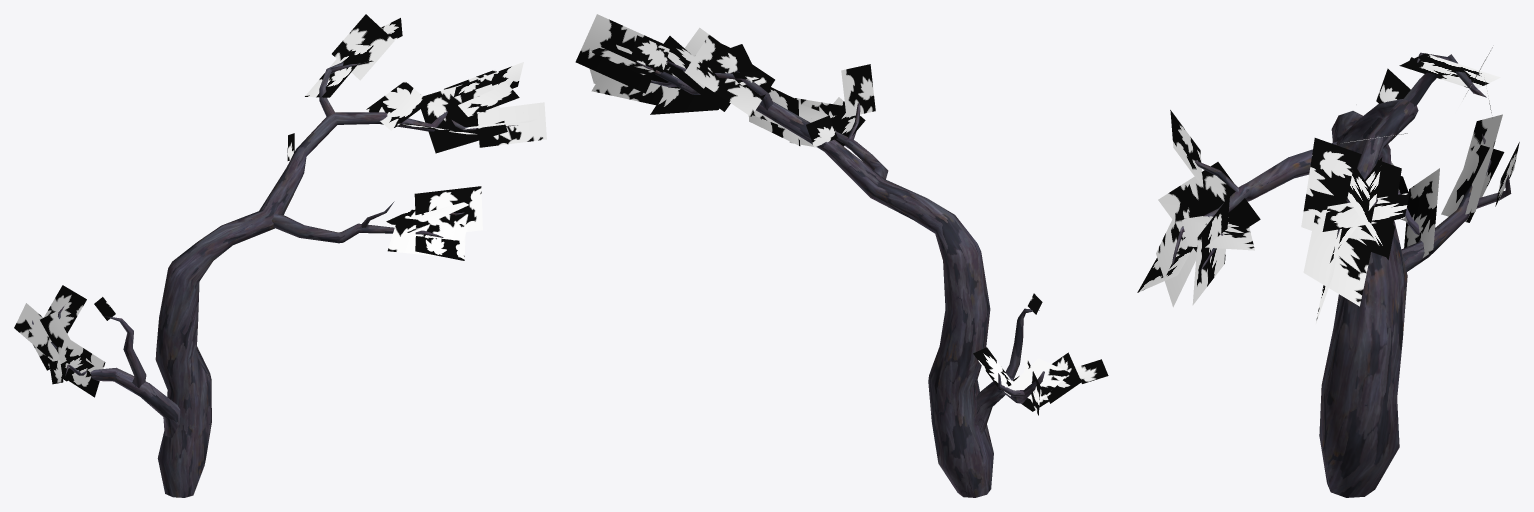
Rendered from P_TreeWindswept01.obj.
The picture shows the model from 3 angles, left to right: view 1: azimuth 30°, elevation 25°; view 2: azimuth 150°, elevation 25°; view 3: azimuth 270°, elevation 25°; orthographic projection. The views are drawn at different scales.
Bounding box in the file's own units: 10.77 × 8.27 × 4.59.
